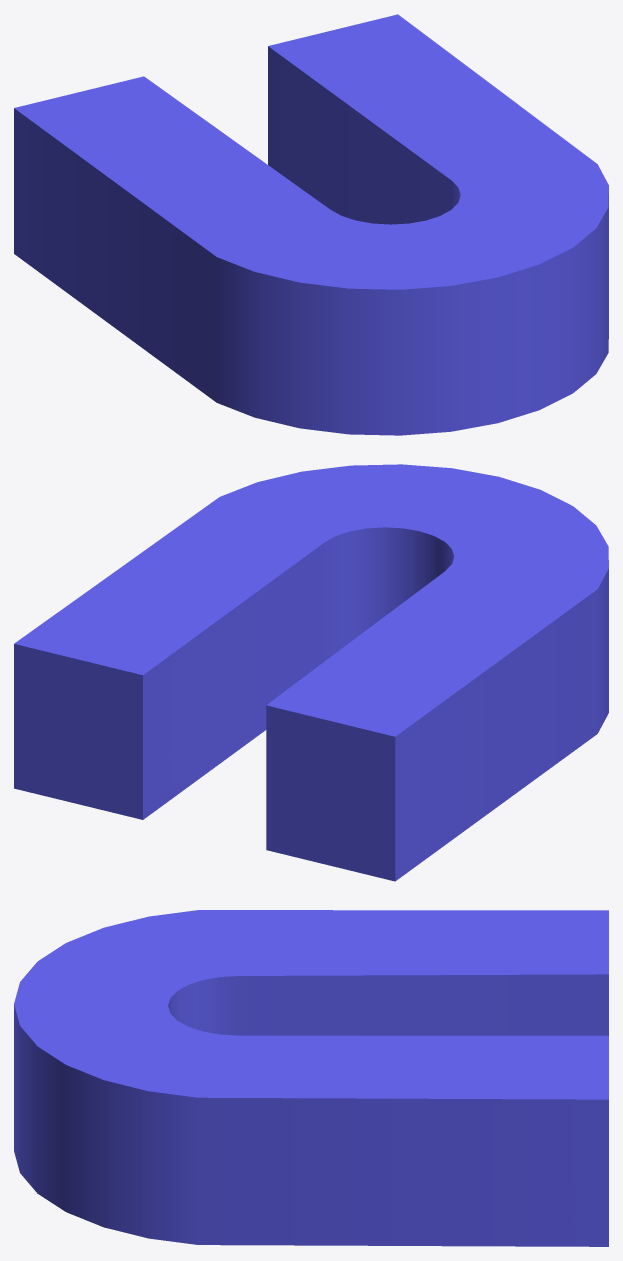
3 renders of one model, top to bottom at view 1: azimuth 30°, elevation 25°; view 2: azimuth 150°, elevation 25°; view 3: azimuth 270°, elevation 25°, orthographic.
Visible parts, largest first — view 1: U1; view 2: U1; view 3: U1.
Part boxes in pixels (bbox=[...]): U1: bbox=[14, 14, 608, 435]; U1: bbox=[14, 464, 608, 881]; U1: bbox=[14, 910, 608, 1246].
Size of the model in its own units: 0.4141 by 0.15 by 0.5492.
